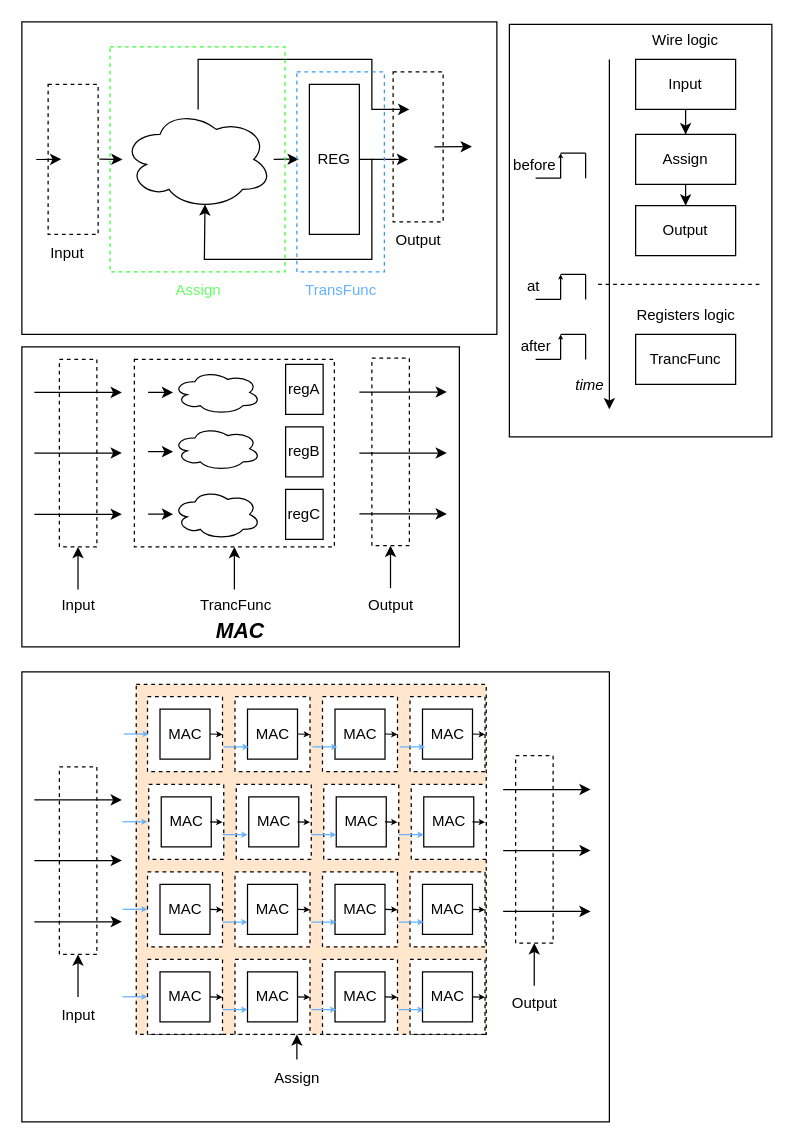
Image size: 794x1144. Some labels were removed from this diagram. The box of each missing label's shape, as (x1, y1, x2, y2) in pixels:
Generic: (21, 21, 497, 334)
order: (508, 23, 772, 437)
SA: (21, 671, 609, 1122)
